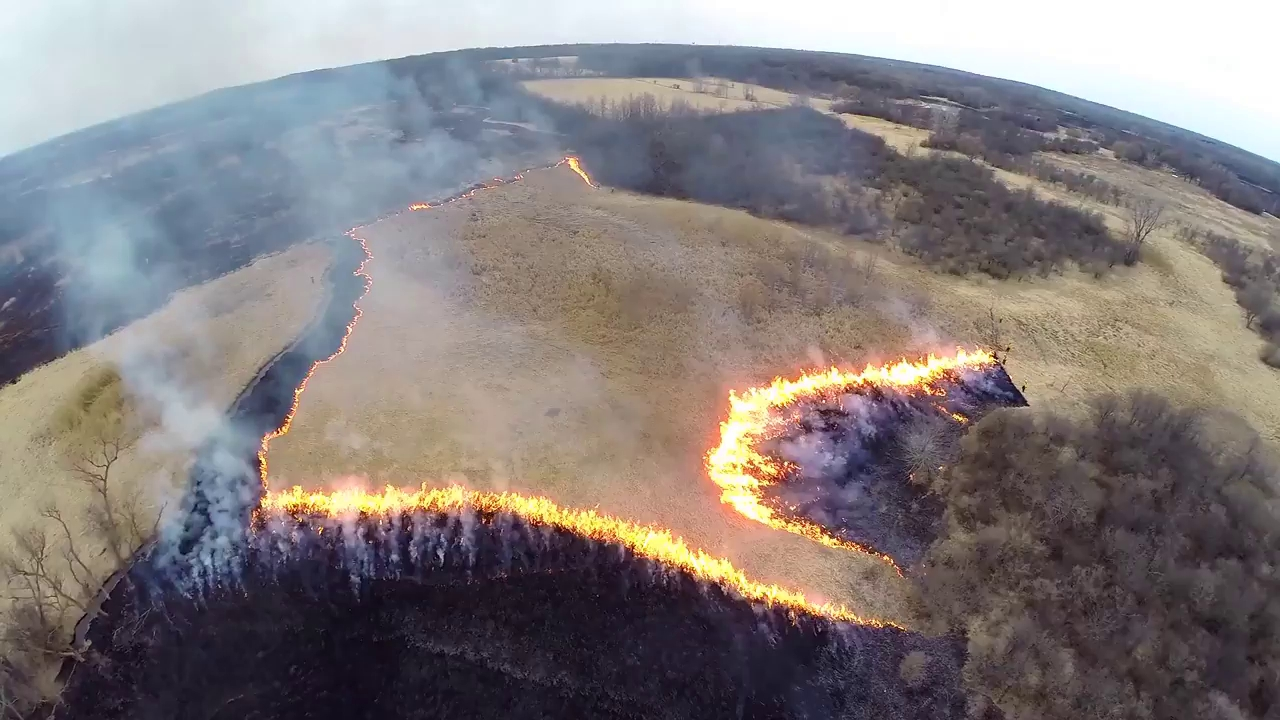forest_fire: (254, 227, 904, 628), (704, 349, 996, 575), (390, 170, 532, 216), (555, 155, 597, 186)
